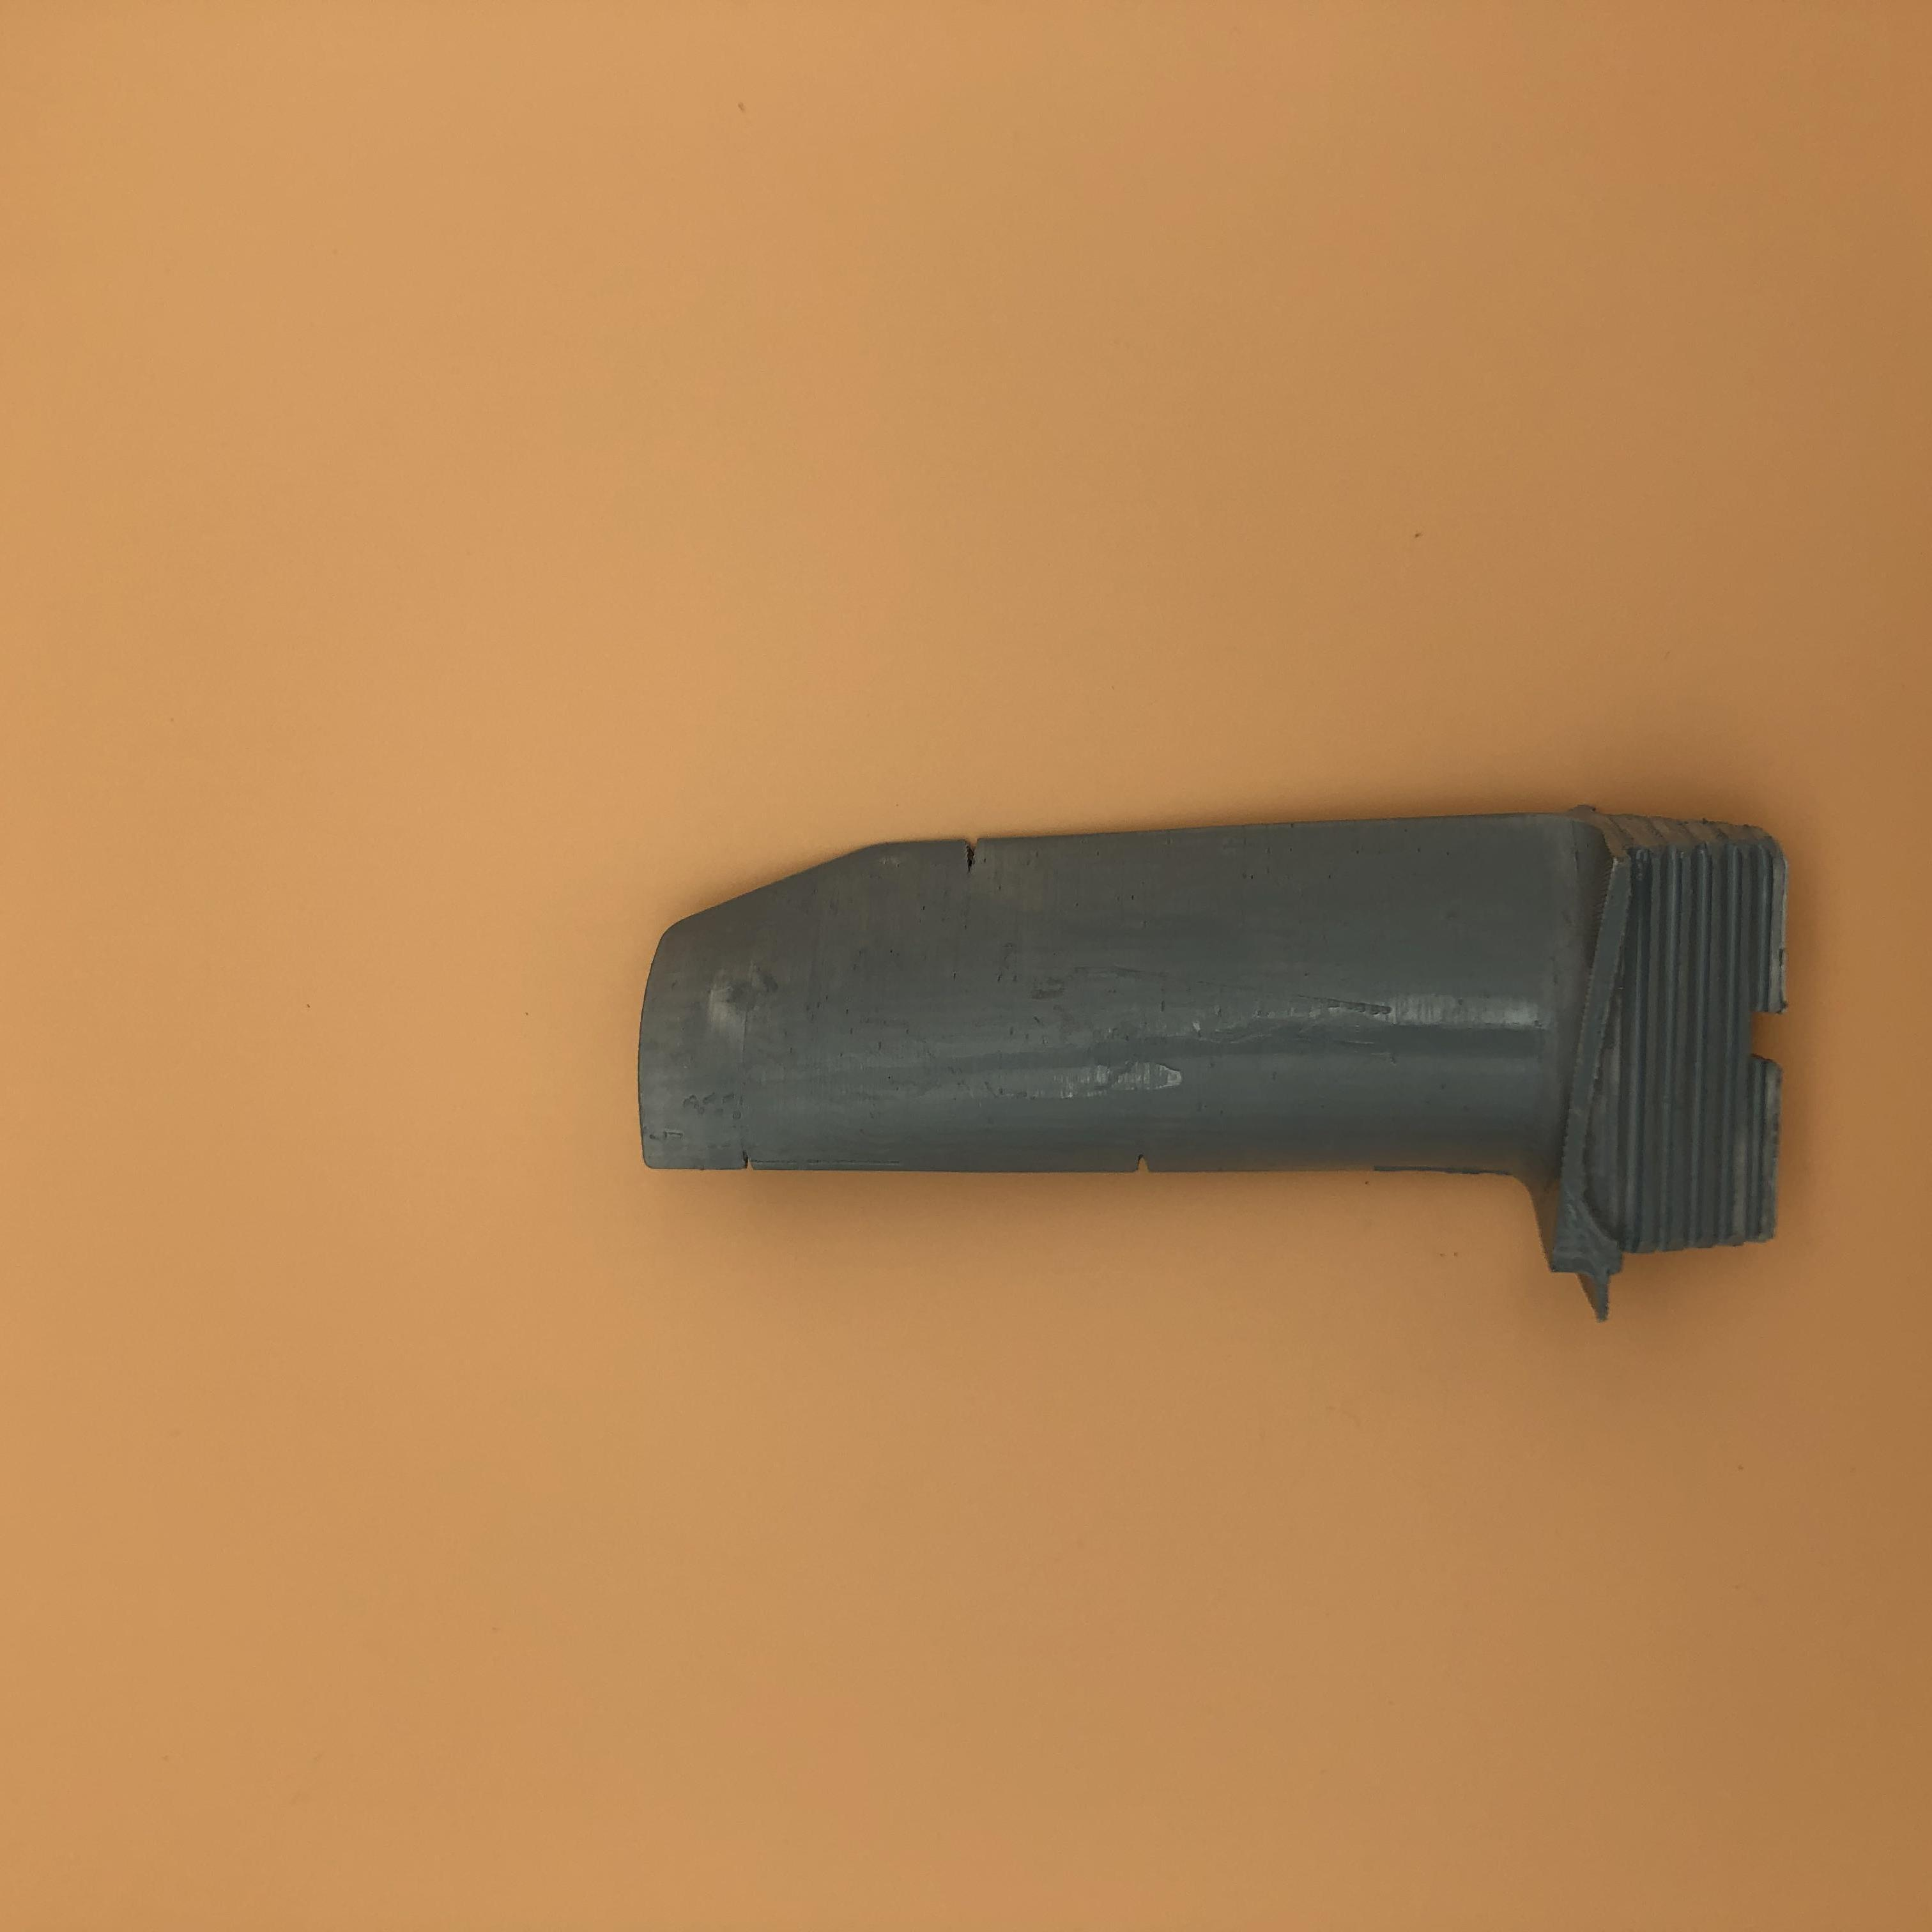groove: (1122, 1148, 1173, 1185), (952, 840, 991, 872), (724, 1148, 770, 1171)
